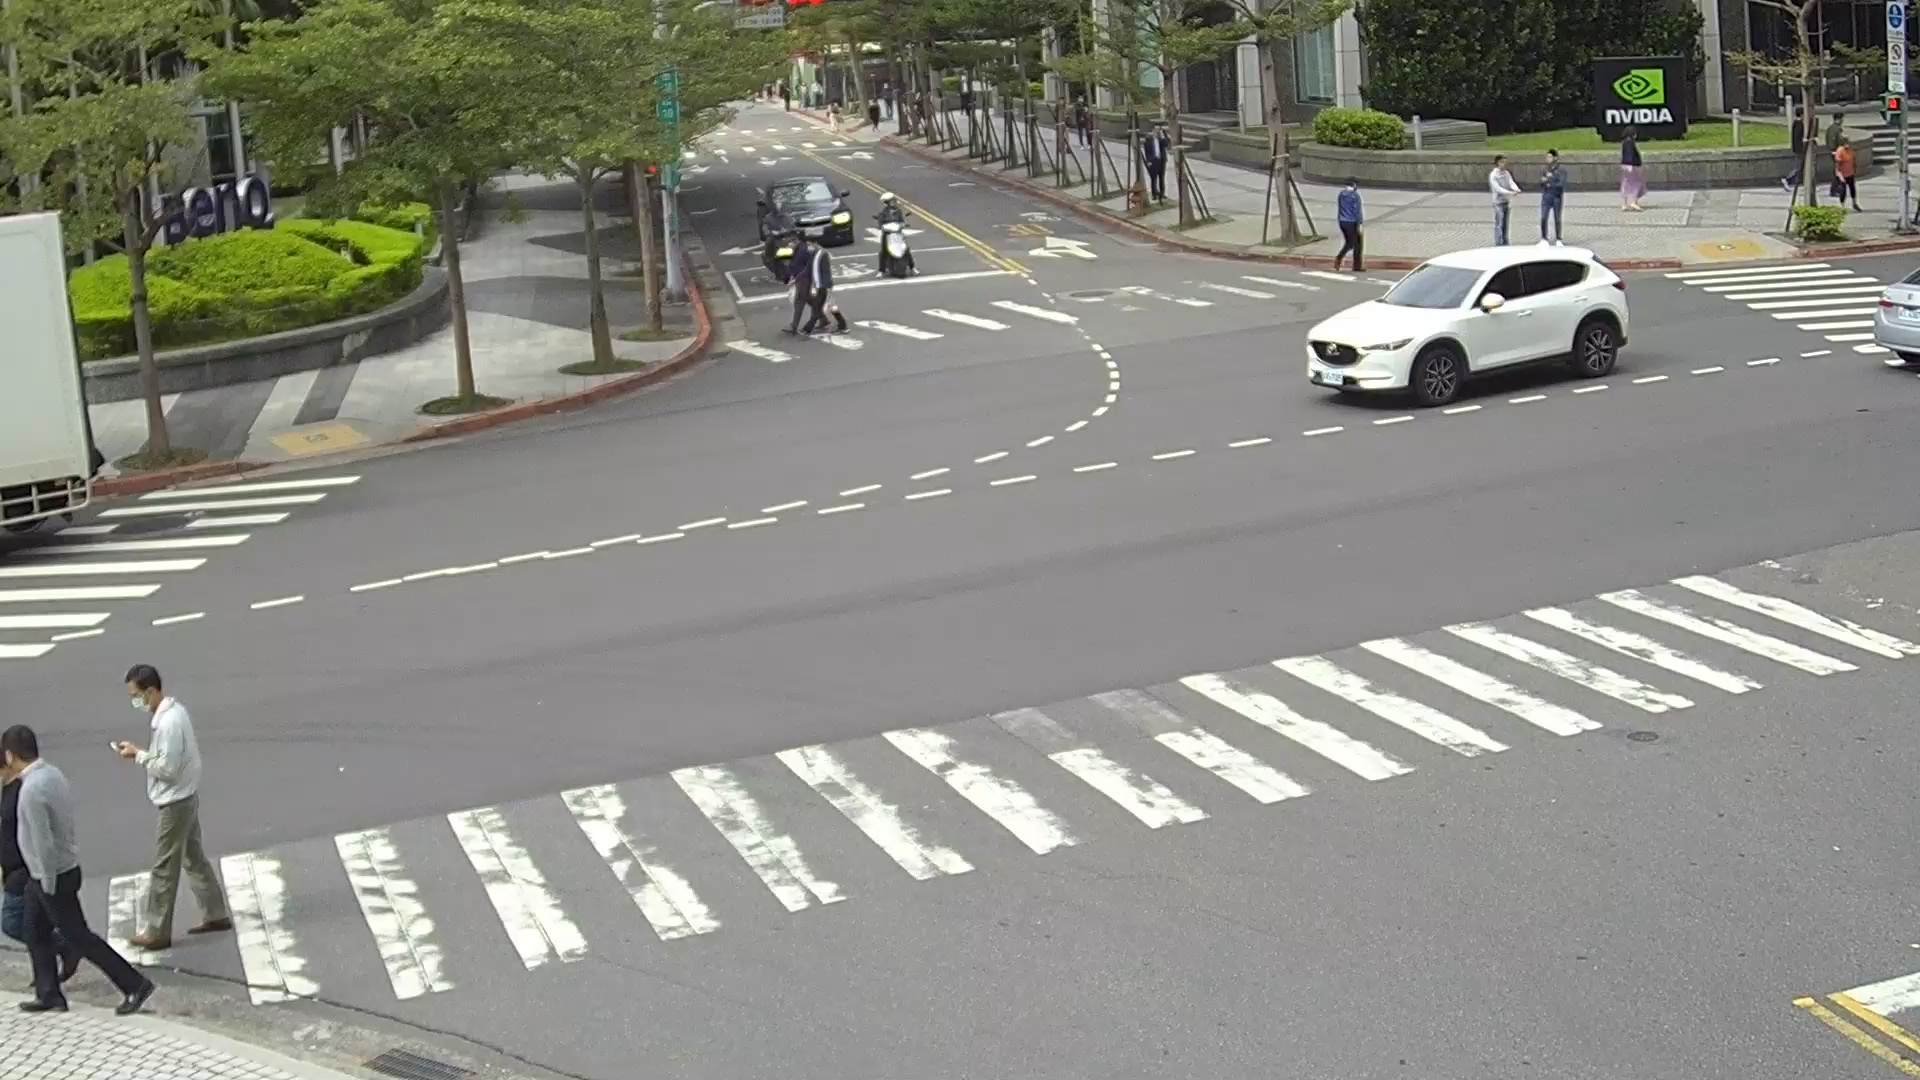bike: (871, 222, 915, 277)
pedestrian: (0, 724, 157, 1019), (107, 666, 236, 950), (780, 238, 830, 333), (1534, 147, 1569, 241), (1616, 122, 1651, 214), (1332, 175, 1364, 275), (1487, 152, 1522, 243), (1831, 136, 1860, 211), (1143, 127, 1165, 200), (871, 195, 906, 239)
vehicle: (1307, 239, 1629, 408), (757, 174, 849, 254), (1872, 236, 1920, 373)
